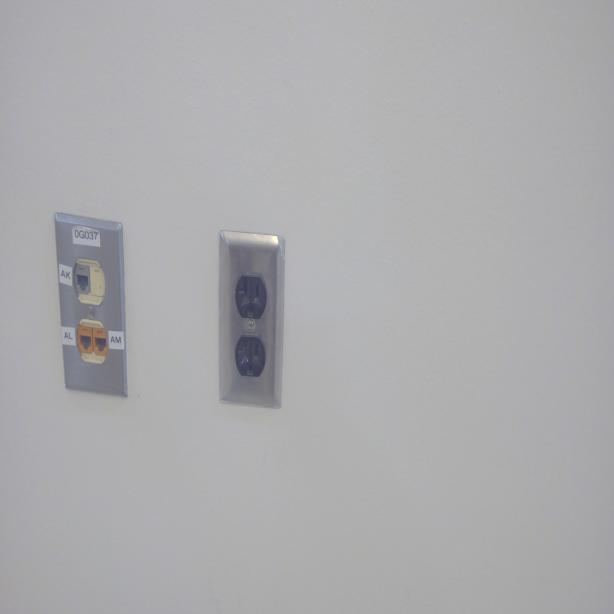typeb: (233, 334, 265, 378), (234, 276, 266, 319)
